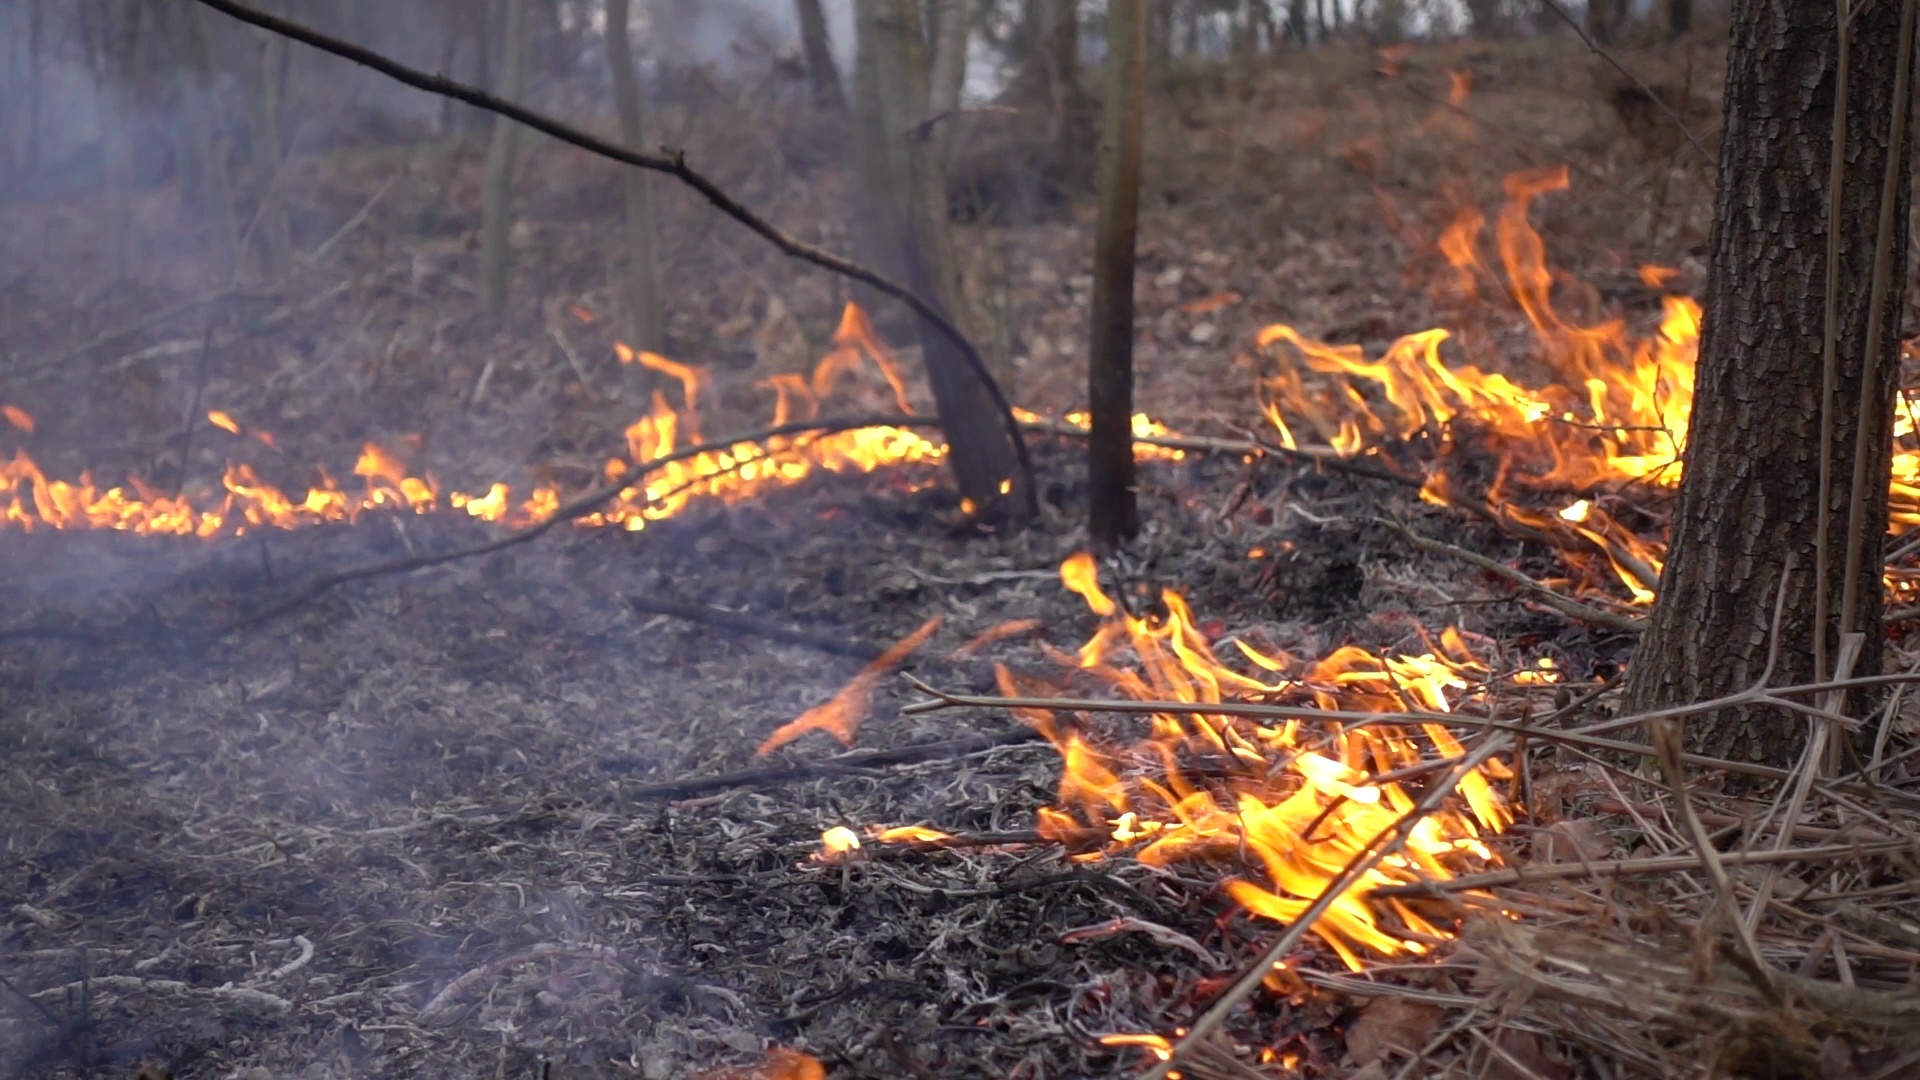fire: (1056, 563, 1510, 944), (1261, 166, 1700, 485), (599, 315, 942, 517), (224, 467, 508, 534), (1, 465, 189, 531), (1892, 398, 1920, 527)
